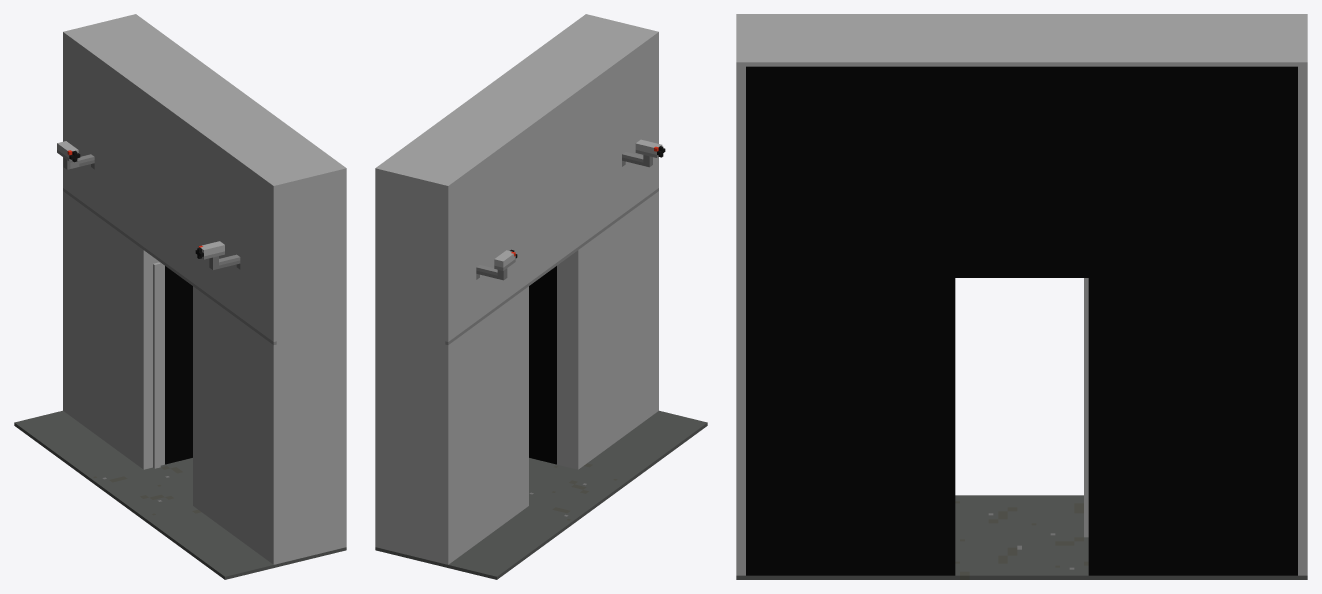
File: Parede_Portao_MISSAO.obj
The picture shows the model from 3 angles, left to right: view 1: azimuth 30°, elevation 25°; view 2: azimuth 150°, elevation 25°; view 3: azimuth 270°, elevation 25°; orthographic projection. The views are drawn at different scales.
Bounding box in the file's own units: 40 × 120 × 120.
1 material, 1 textured.
